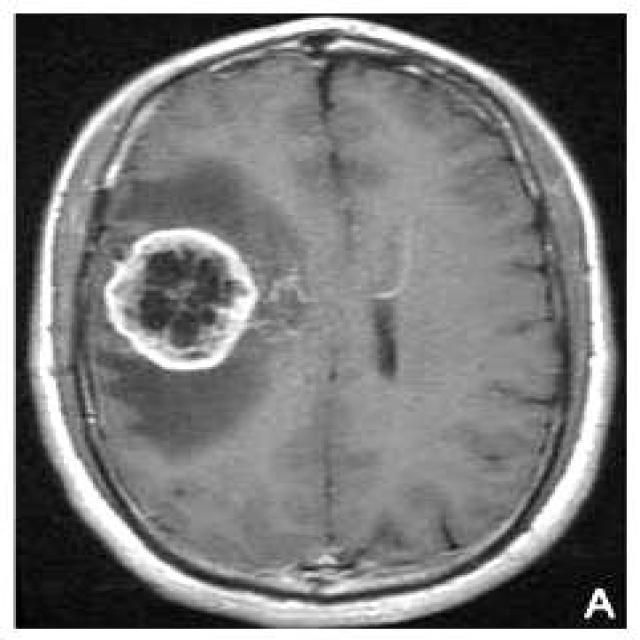brain tumor: (104, 228, 260, 371)
